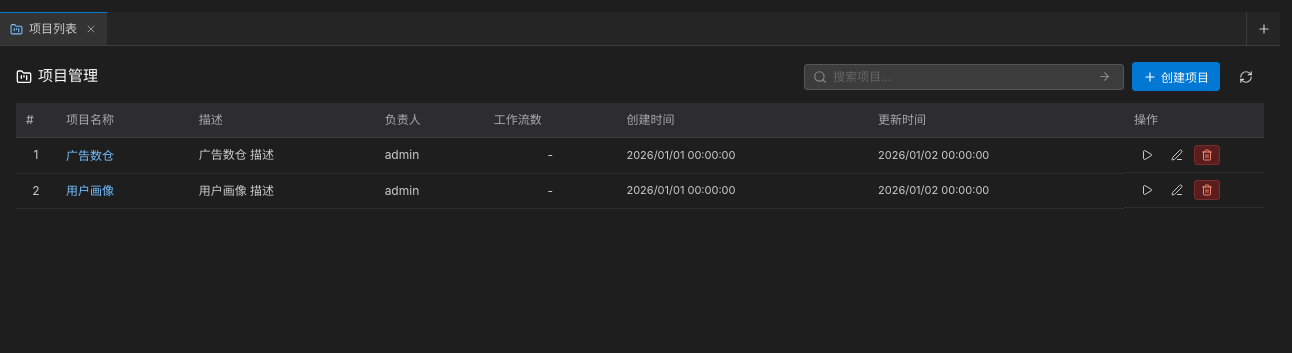
Scenario: 调度管理多标签页 › 关闭当前标签页后激活相邻标签页，关闭最后一个时保留一个并退回项目列表
Click the button "广告数仓".
click(90, 154)  # box x1=66 y1=146 x2=114 y2=163
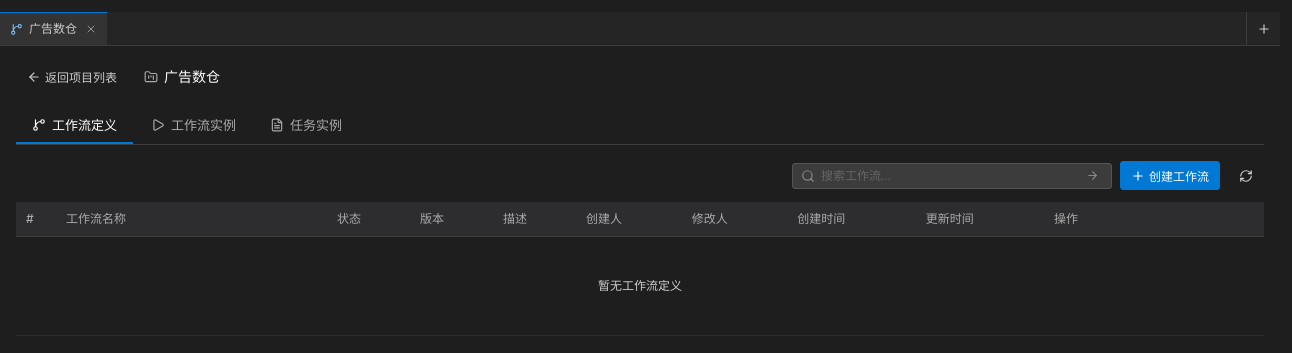
Expected: the text with class "sm-tab__label" reads "广告数仓", x1=29 y1=21 x2=77 y2=36
Click the button with class "sm-tabbar__new".
click(1263, 28)  # box x1=1246 y1=12 x2=1280 y2=45
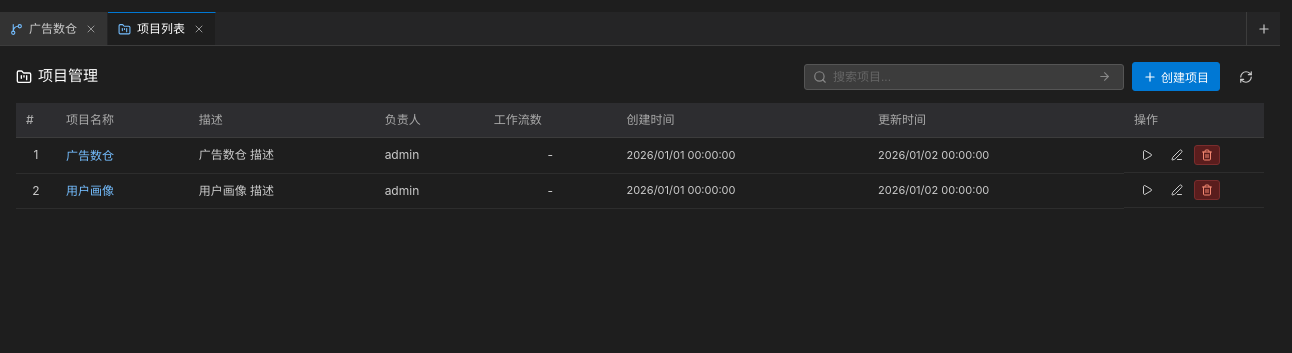
Click the element with class "sm-tab__close" next to "项目列表".
click(199, 29)  # box x1=193 y1=23 x2=205 y2=35
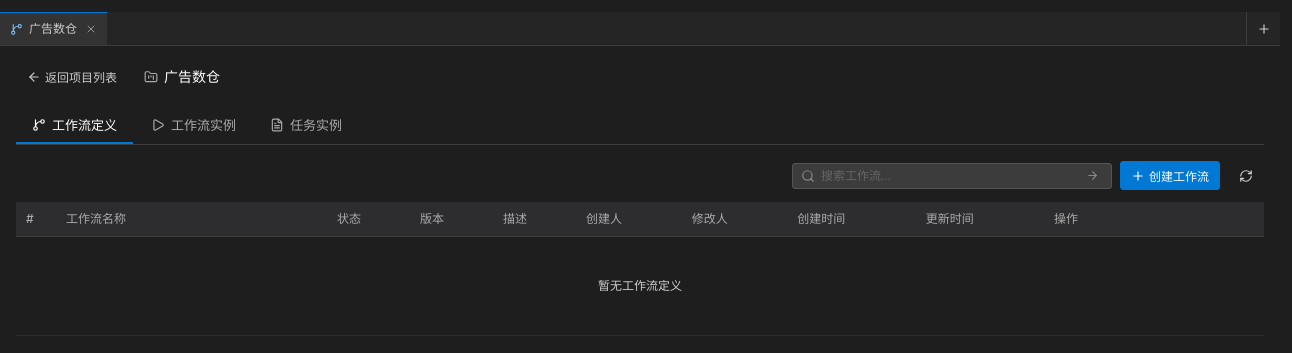
Expected: the text with class "sm-tab__label" reads "广告数仓", x1=29 y1=21 x2=77 y2=36
Click the element with class "sm-tab__close".
click(91, 29)  # box x1=85 y1=23 x2=97 y2=35
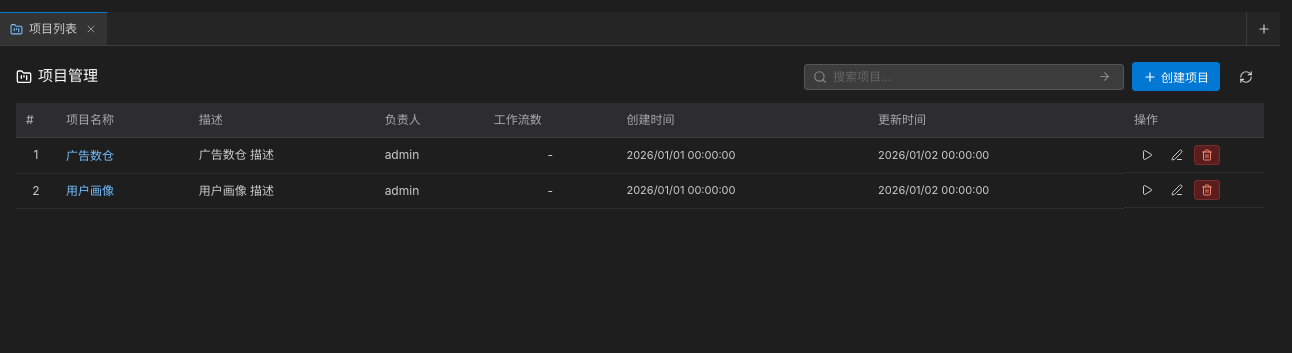
Expected: the text with class "sm-tab__label" reads "项目列表", x1=29 y1=21 x2=77 y2=36
